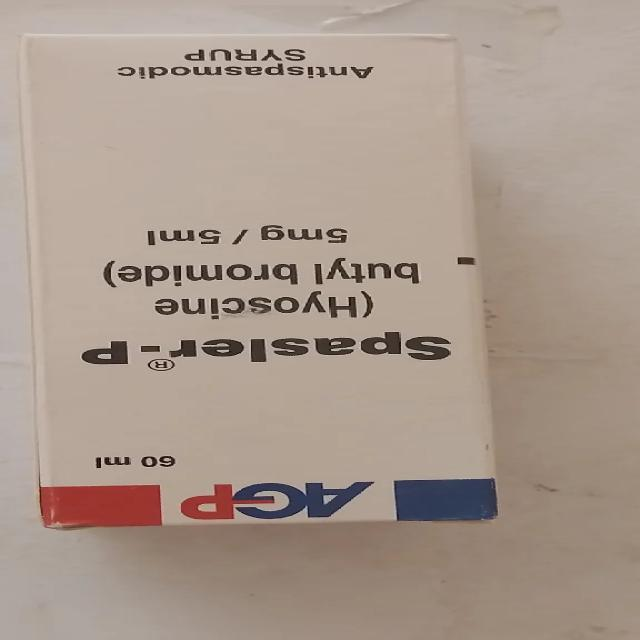drug-name: (76, 326, 452, 374)
